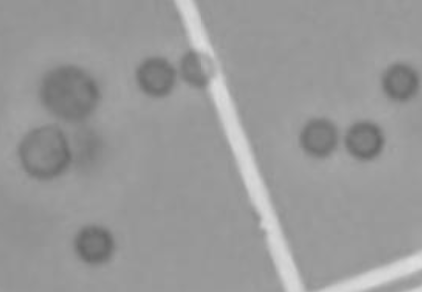cell: (31, 56, 106, 124), (13, 118, 75, 181), (127, 48, 183, 105), (291, 108, 344, 167), (172, 42, 223, 95), (339, 114, 390, 167), (373, 53, 422, 107), (70, 218, 120, 269)
